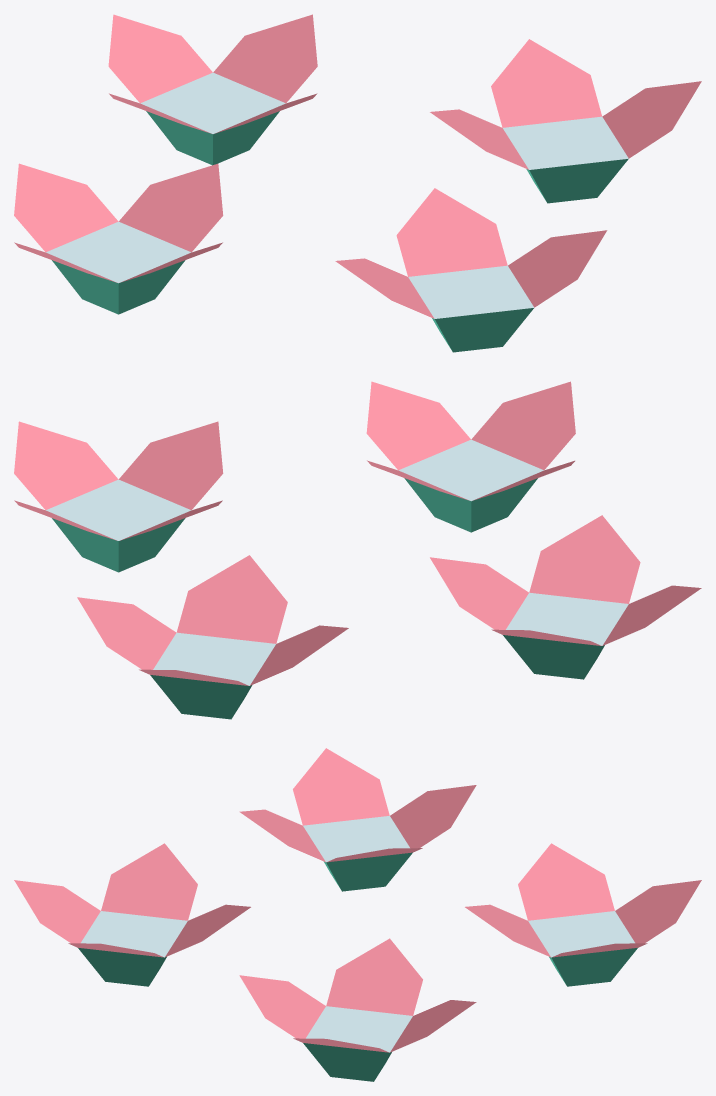
File: flowersLow.glb
3 renders of one model, top to bottom at view 1: azimuth 30°, elevation 25°; view 2: azimuth 150°, elevation 25°; view 3: azimuth 270°, elevation 25°, orthographic. The views are drawn at different scales.
Parts seen in each view (by area): view 1: flowersLow; view 2: flowersLow; view 3: flowersLow.
Part boxes in pixels (bbox=[...]): flowersLow: bbox=[14, 14, 701, 352]; flowersLow: bbox=[14, 381, 701, 719]; flowersLow: bbox=[14, 748, 701, 1081].
Bounding box in the file's own units: 0.7639 × 0.1 × 0.7639.
